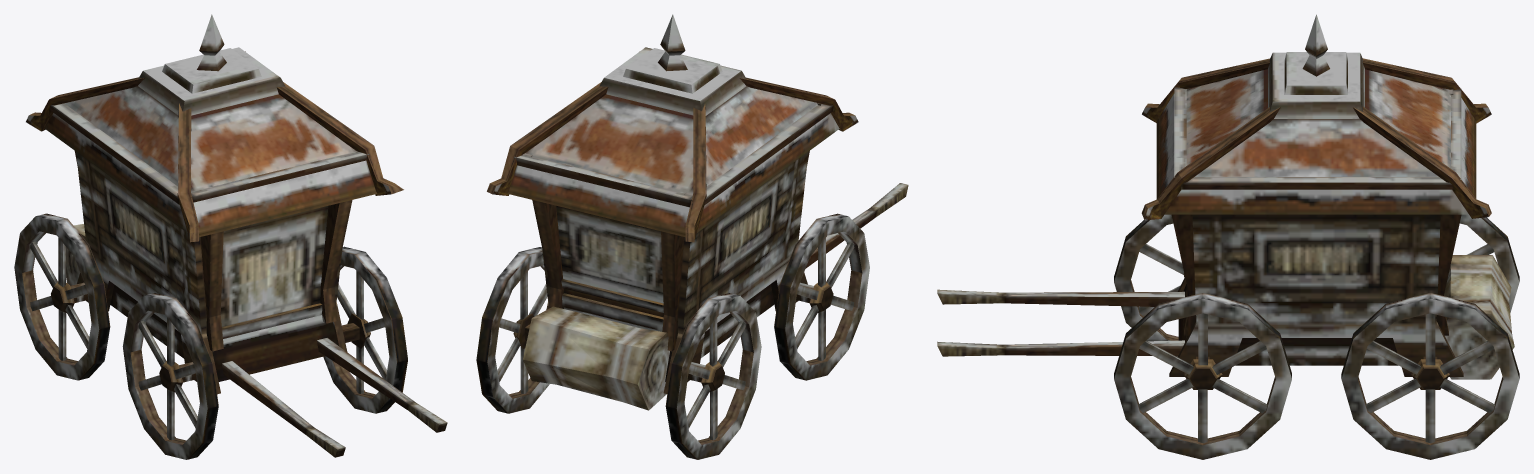
File: general_obj_carriage.fbx
3 views of the same model, side by side, from view 1: azimuth 30°, elevation 25°; view 2: azimuth 150°, elevation 25°; view 3: azimuth 270°, elevation 25° (orthographic). The views are drawn at different scales.
Visible parts, largest first — view 1: Object01; view 2: Object01; view 3: Object01.
Boxes of the visible parts, left/top/right/bottom form: Object01: left=14, top=14, right=447, bottom=459; Object01: left=476, top=14, right=908, bottom=459; Object01: left=937, top=14, right=1519, bottom=459.
Bounding box in the file's own units: 2.58 × 4.33 × 5.78.
